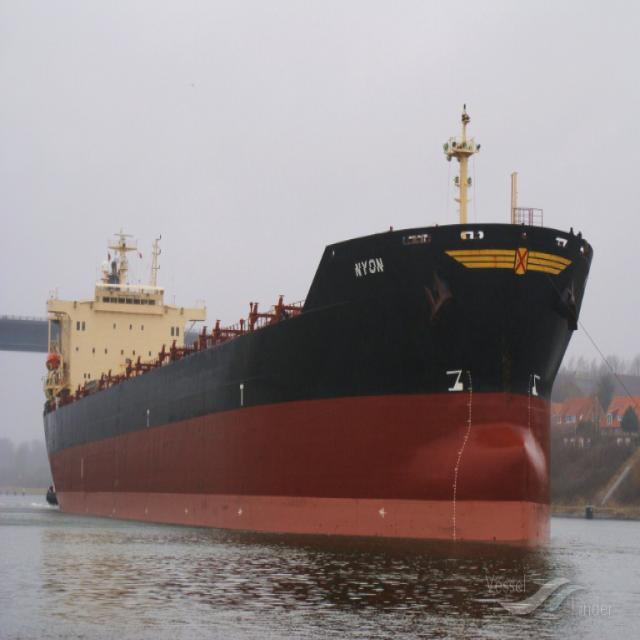OCR: (349, 258, 390, 290)
